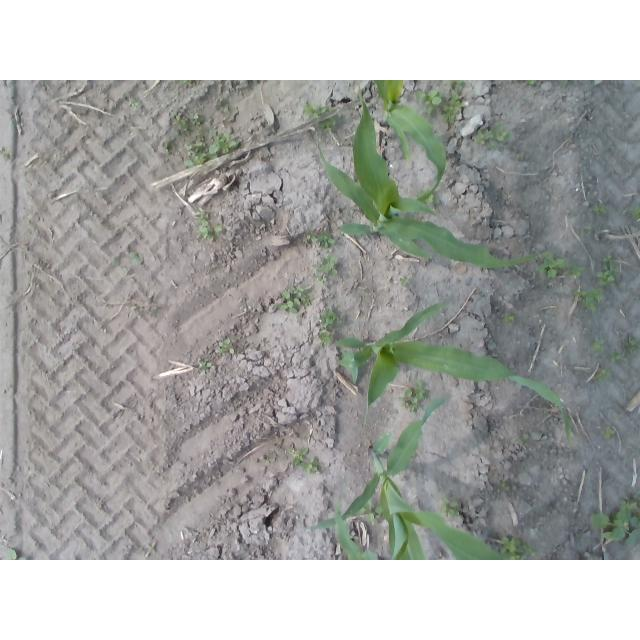Maize: (313, 84, 542, 268), (336, 302, 572, 444), (309, 398, 508, 560), (371, 80, 446, 200), (330, 505, 382, 560)
Weeds: (593, 509, 640, 546), (417, 89, 441, 116), (542, 251, 565, 277), (208, 134, 236, 154), (277, 291, 300, 313), (199, 220, 222, 241), (316, 256, 339, 275), (289, 444, 308, 467), (443, 100, 461, 124), (293, 286, 312, 307), (401, 390, 418, 412), (604, 252, 619, 276), (588, 289, 603, 311), (184, 151, 207, 165), (322, 309, 338, 328), (216, 338, 235, 354), (495, 123, 511, 142), (442, 499, 458, 518), (302, 104, 327, 116), (113, 259, 128, 278), (299, 458, 318, 472), (626, 334, 639, 354), (319, 119, 337, 133), (501, 538, 515, 555), (598, 271, 614, 285), (414, 382, 426, 399), (319, 236, 335, 248), (303, 231, 317, 244), (130, 252, 143, 265), (319, 332, 333, 344), (569, 264, 583, 276), (8, 552, 26, 561), (198, 359, 212, 370), (175, 115, 186, 129), (1, 146, 12, 160), (488, 131, 497, 147), (574, 289, 586, 301), (504, 312, 515, 325), (598, 369, 611, 380), (523, 545, 535, 556), (595, 203, 607, 214), (630, 206, 640, 219), (196, 209, 208, 219), (192, 114, 202, 126), (479, 129, 486, 145), (195, 136, 205, 147), (519, 433, 530, 443), (603, 427, 613, 438), (596, 338, 605, 350), (510, 553, 525, 560), (515, 539, 523, 552), (129, 97, 139, 107), (149, 307, 160, 316), (581, 226, 592, 235), (450, 81, 463, 88), (620, 501, 633, 508), (182, 123, 191, 133), (501, 482, 511, 491), (399, 277, 409, 285), (560, 80, 573, 86), (162, 140, 171, 148), (131, 306, 142, 312), (450, 95, 458, 102), (181, 80, 195, 84), (427, 196, 434, 204), (611, 356, 621, 361), (184, 145, 192, 151), (621, 354, 627, 362), (526, 80, 535, 85), (570, 211, 577, 217), (517, 154, 524, 159)
